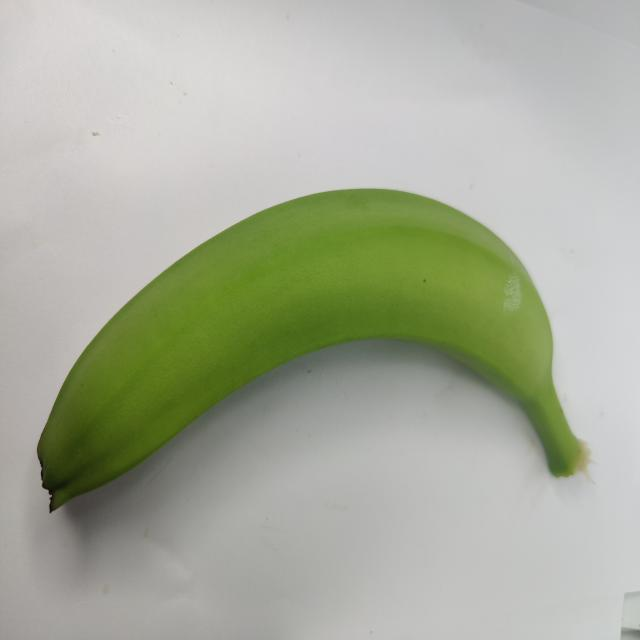raw: (26, 169, 608, 549)
